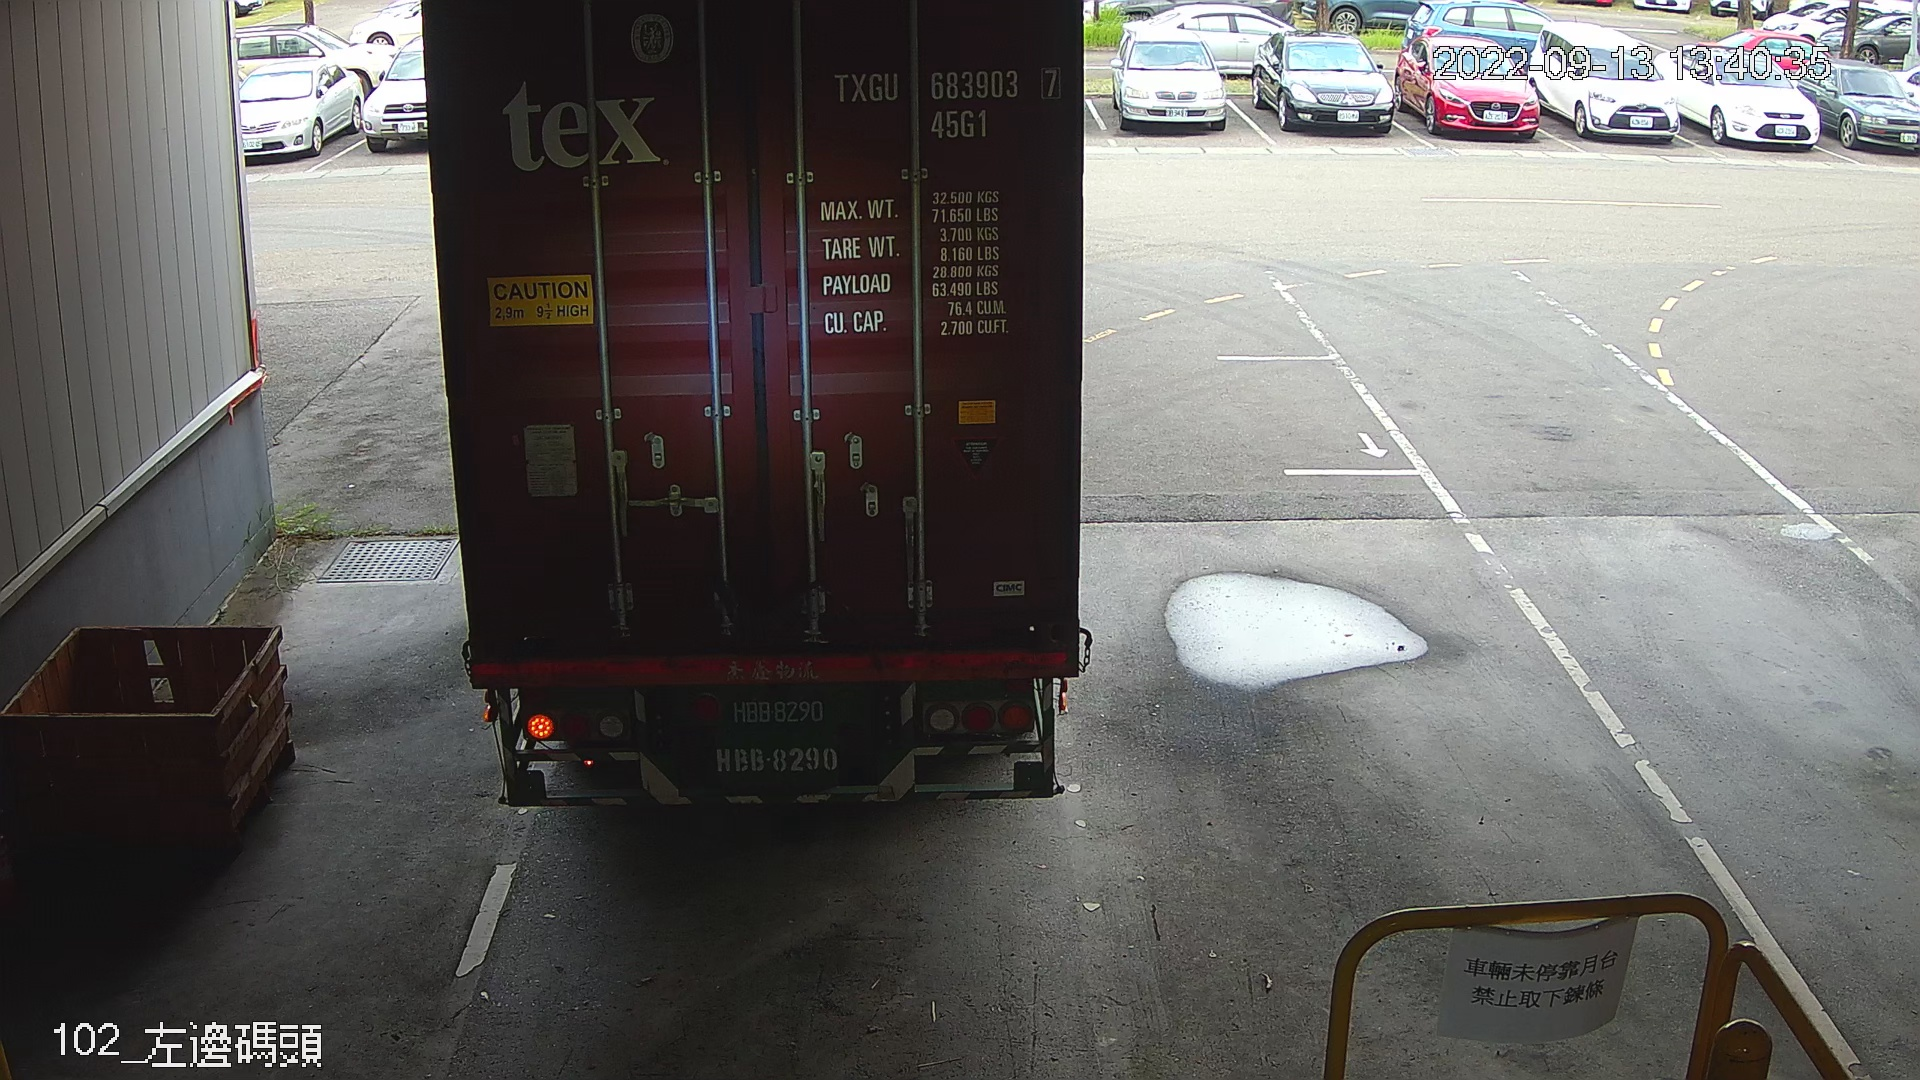container: (825, 58, 1069, 145)
